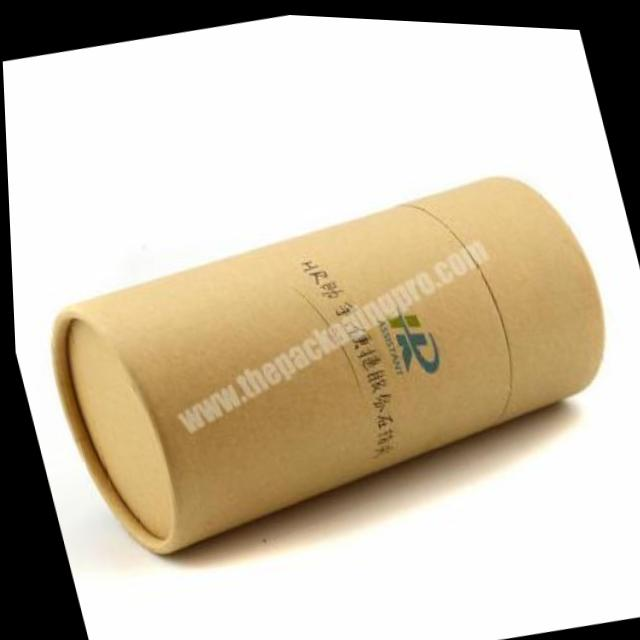box: (7, 131, 640, 601)
